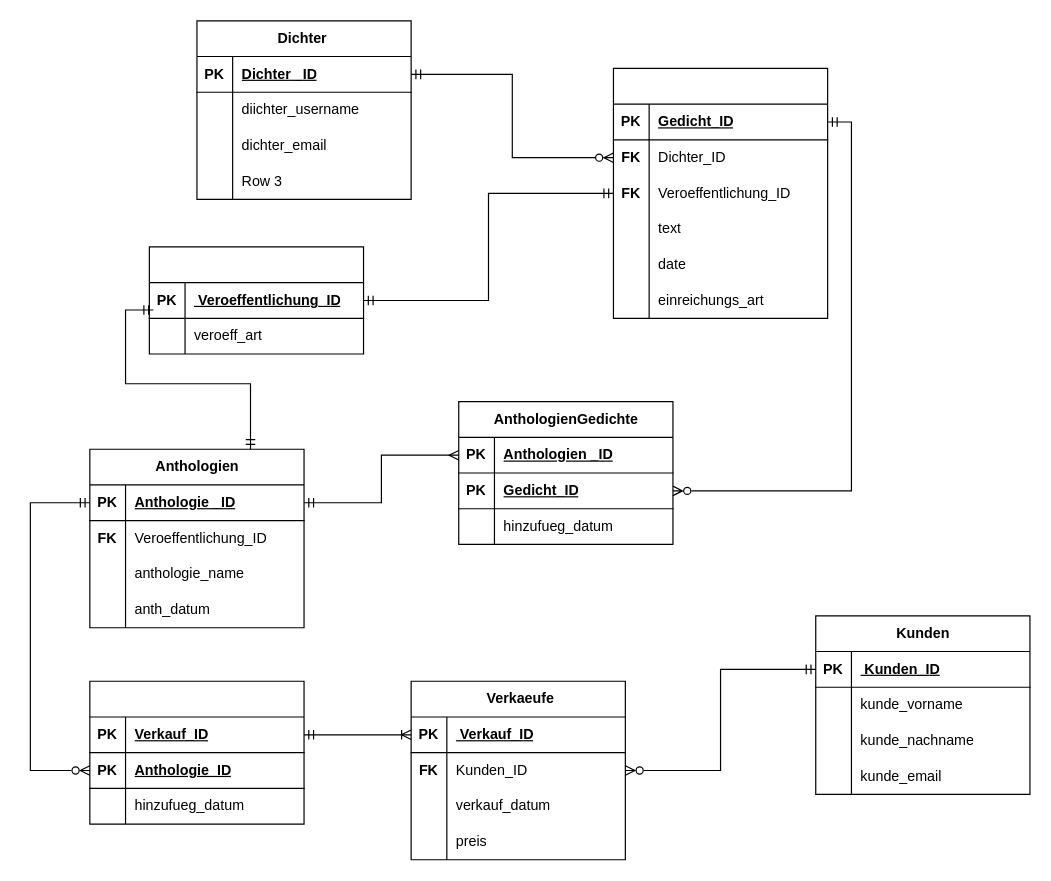
Some shapes in this 1051 by 881 pixel diagram are drawn without their labels. The box of each missing label's shape, as (x1, y1, x2, y2) in pixels:
Gedichte: (612, 67, 828, 318)
VerkaufAnthologien: (89, 680, 304, 824)
Veroeffentlichungen: (148, 246, 364, 354)
